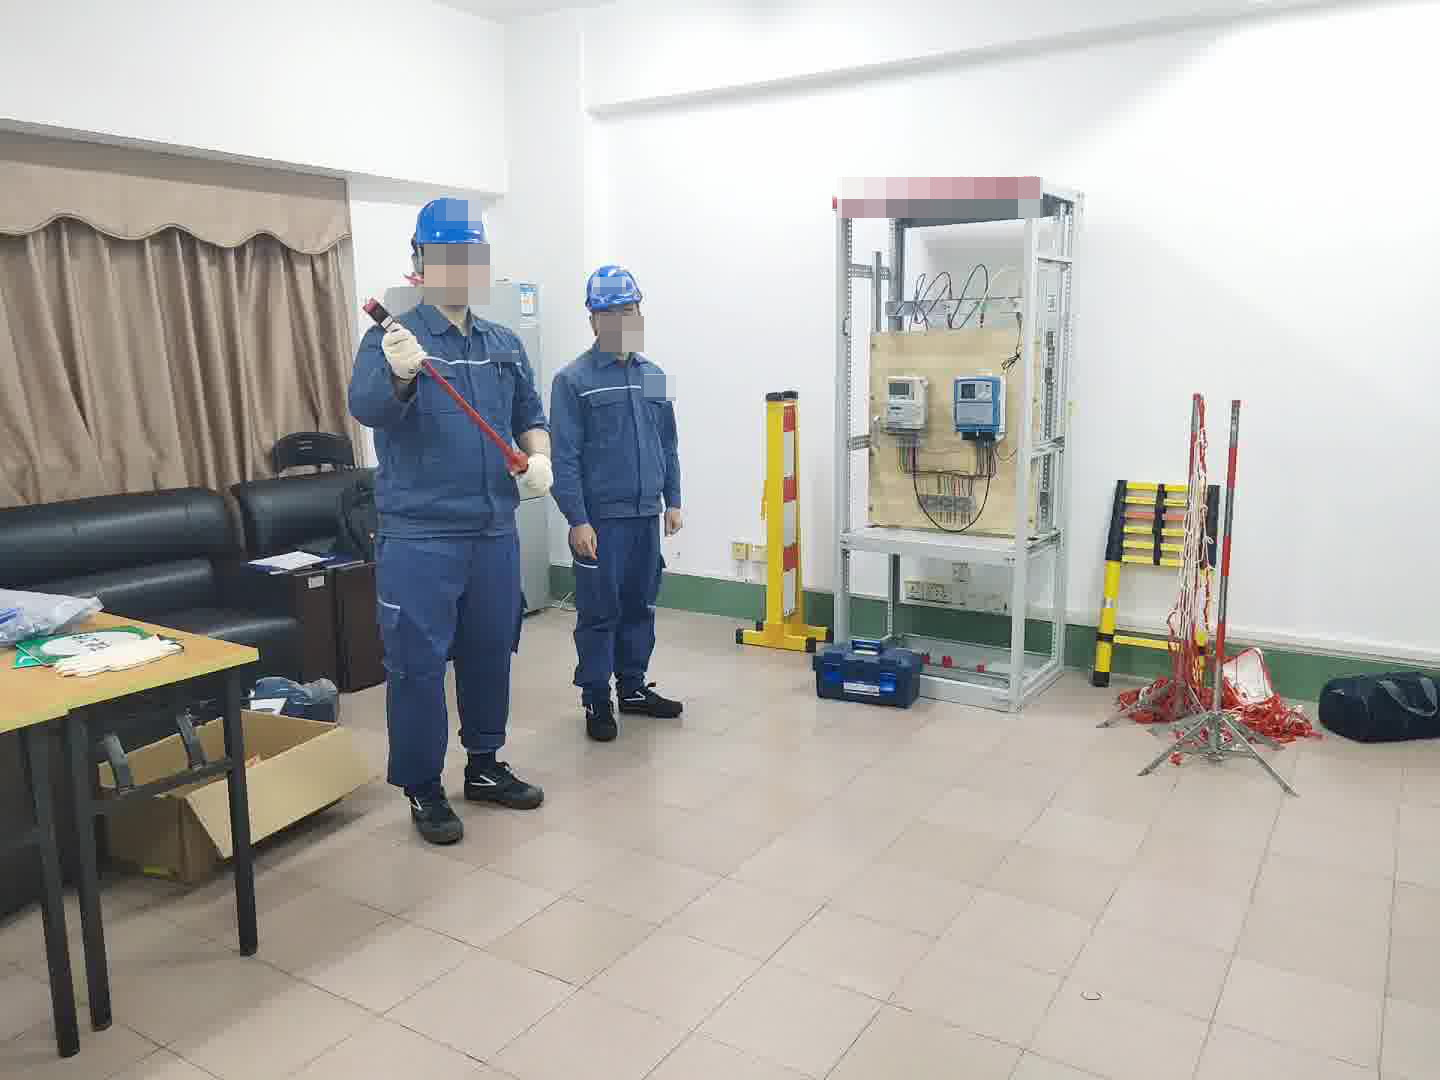downsuit: (374, 522, 527, 765), (571, 523, 666, 697)
halt: (408, 195, 492, 308), (583, 263, 648, 351)
hand: (569, 524, 599, 558), (663, 507, 684, 532)
person: (345, 195, 547, 834), (552, 262, 690, 732)
testrod: (368, 300, 527, 475)
upsuit: (349, 297, 546, 531), (556, 346, 683, 521)
wglove: (379, 320, 426, 384), (520, 455, 552, 489)
wrongtop: (516, 394, 549, 466)
